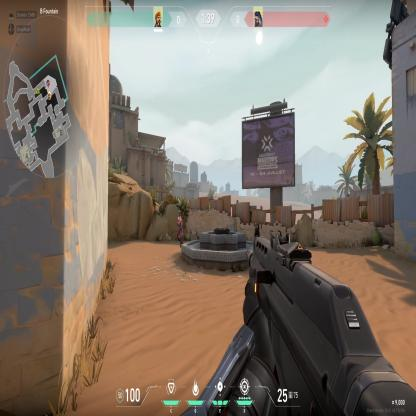enemy: (176, 213, 183, 248)
